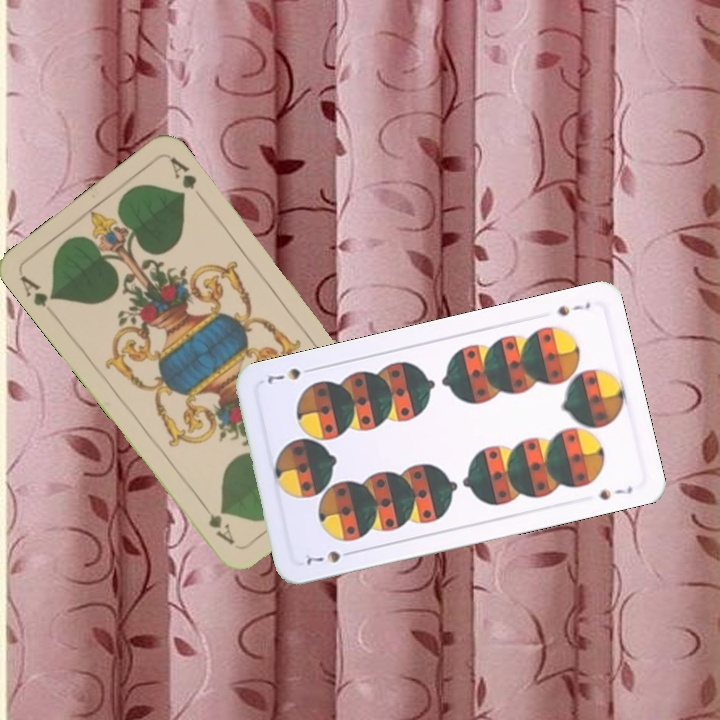GA: (15, 270, 59, 311)
S7: (302, 546, 358, 568), (552, 298, 593, 319)
